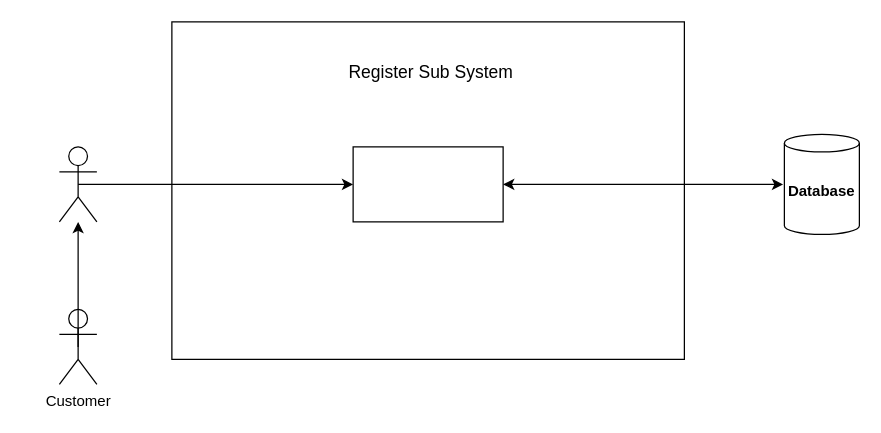
Image size: 881x433. Some labels were removed from this diagram. The shapes that lost their labels are listed below. From the top down, each one's centre as x and y in pixels, then its label:
the point at 77,184: Farmer/Producer
the point at 427,184: Register new User
